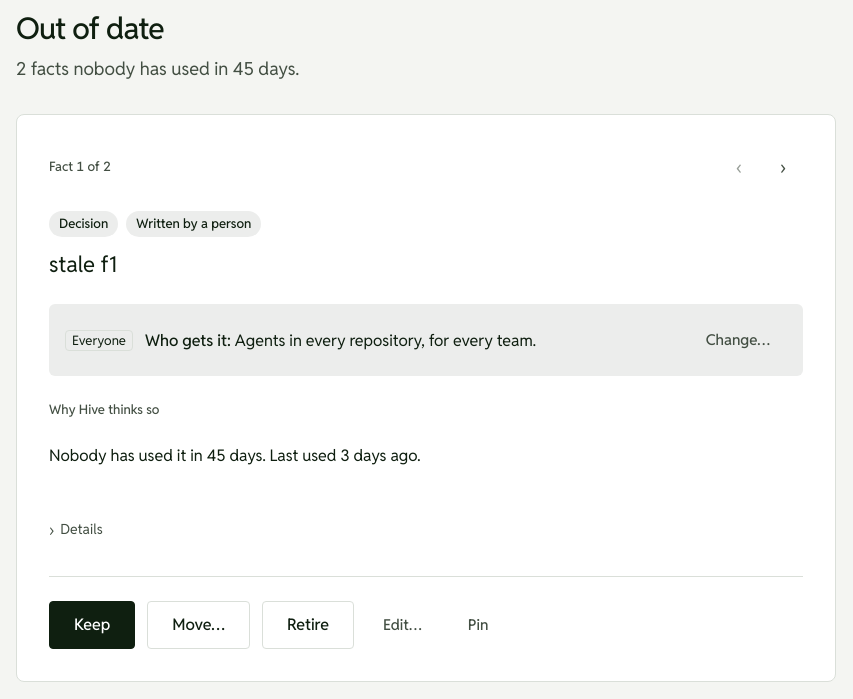
Test: out of date facts › says why: when it was last used, or that it never was since it was added
Expected: the text "stale f1" is shown, left=49, top=250, right=117, bottom=278
Expected: the element showing "Nobody has used it in 45 days. Last used 3 days ago." is shown, left=49, top=445, right=420, bottom=466
Click the button named "Next fact": (783, 166) left=763, top=146, right=803, bottom=186
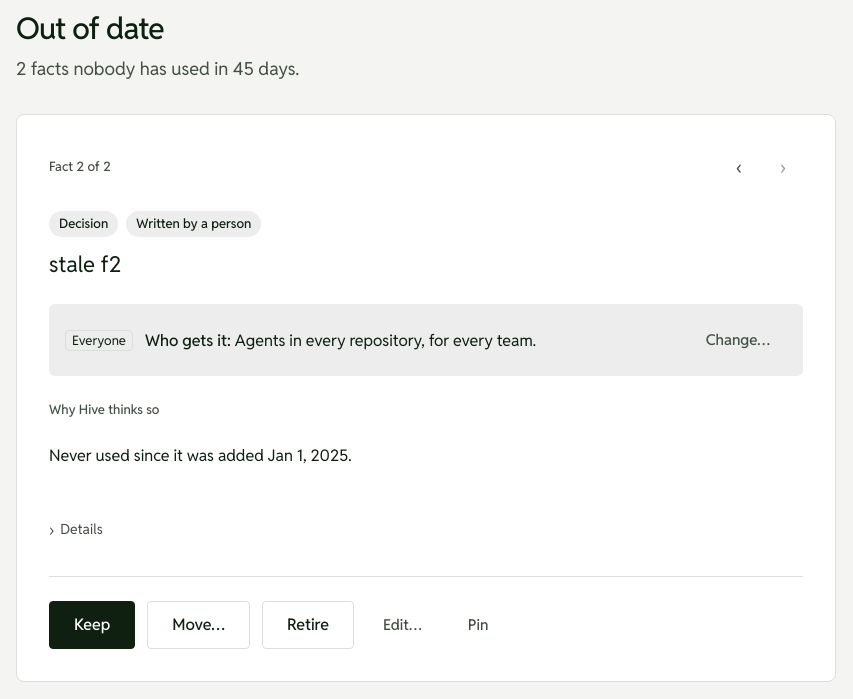
Now the element showing "Never used since it was added Jan 1, 2025." is shown, box left=49, top=445, right=351, bottom=466
